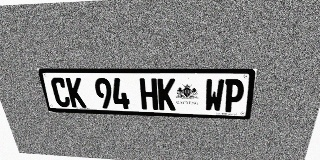4: (110, 78, 130, 109)
9: (94, 78, 114, 109)
C: (50, 77, 71, 107)
H: (139, 78, 158, 110)
K: (65, 78, 87, 108), (157, 78, 175, 111)
P: (223, 79, 245, 113)
W: (204, 79, 225, 112)
